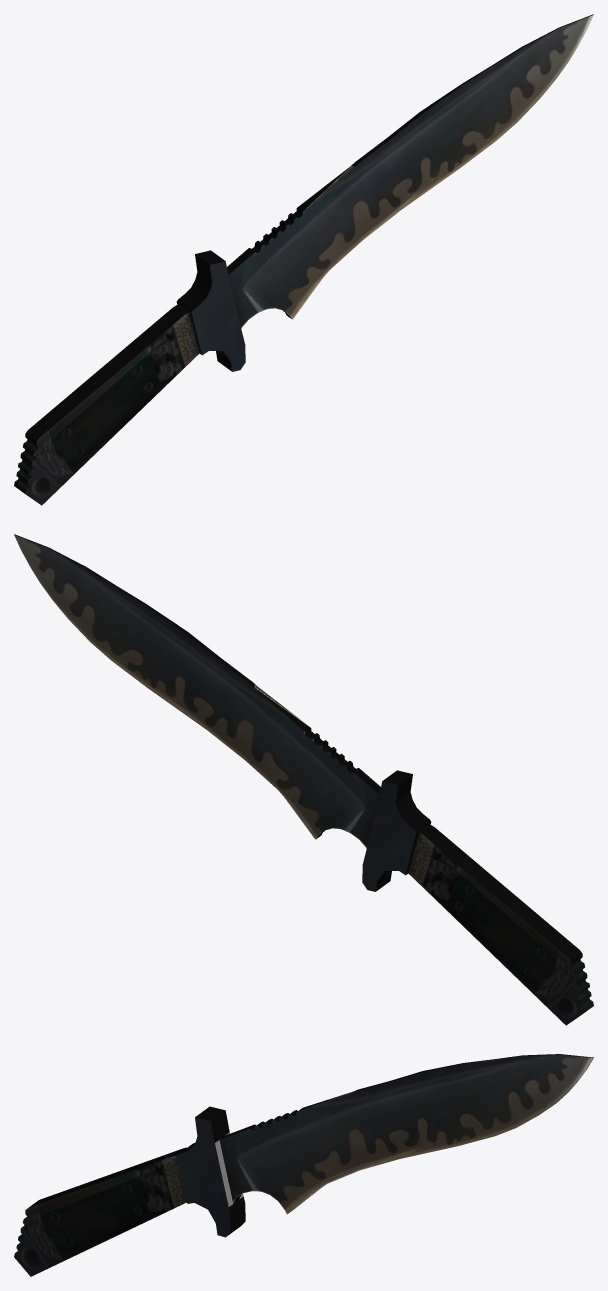
Rendered from classic_knife_-_cs_1.6.glb.
The picture shows the model from 3 angles, top to bottom: view 1: azimuth 30°, elevation 25°; view 2: azimuth 150°, elevation 25°; view 3: azimuth 330°, elevation 25°; orthographic projection.
Visible parts, largest first — view 1: Cube; view 2: Cube; view 3: Cube.
Boxes of the visible parts, left/top/right/bottom form: Cube: left=14, top=14, right=593, bottom=505; Cube: left=14, top=534, right=593, bottom=1025; Cube: left=14, top=1054, right=593, bottom=1276.
Size of the model in its own units: 499 by 292 by 22.6.
3 materials, 3 textured.
